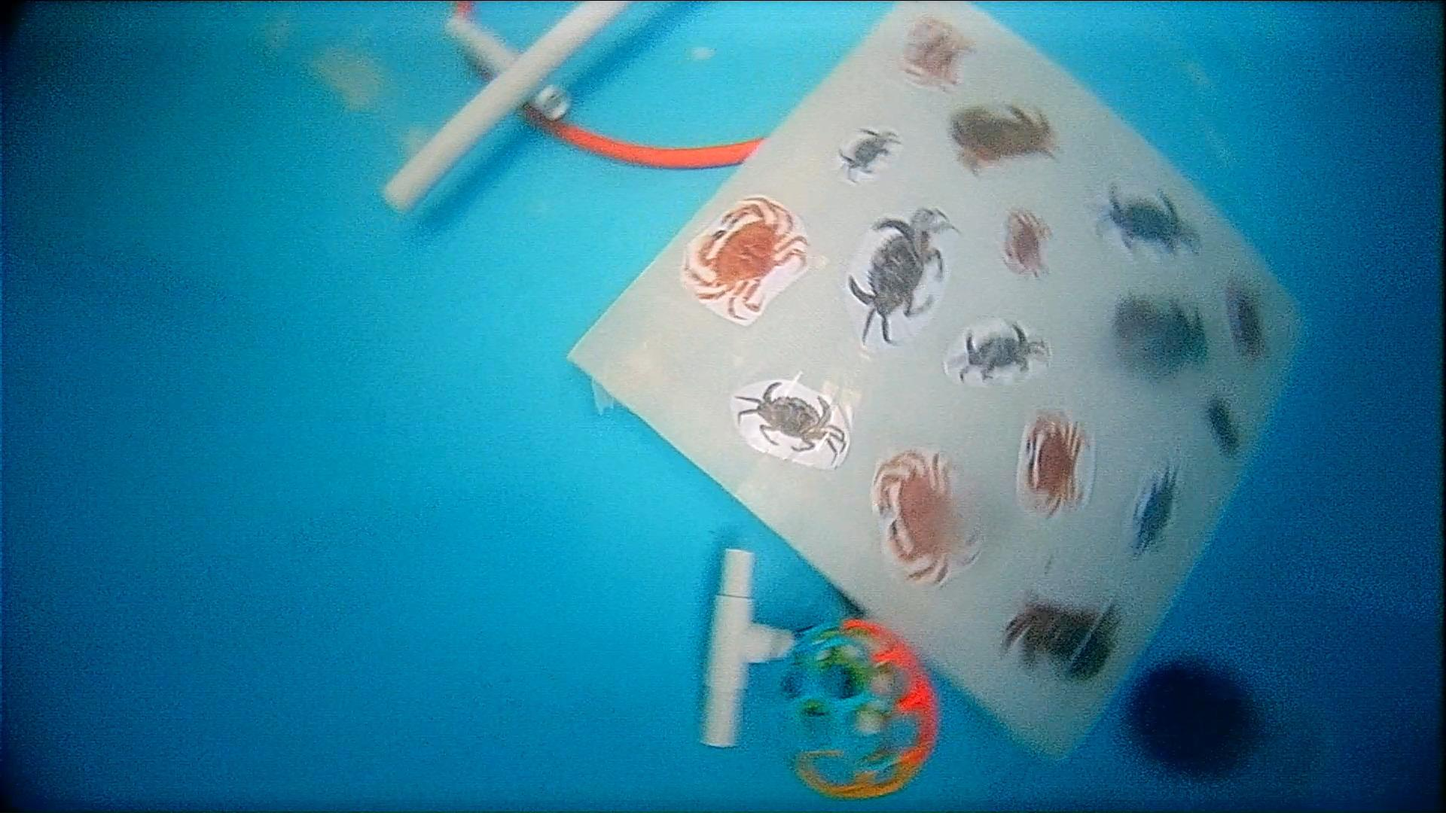GreenCrab: (848, 209, 953, 344), (736, 382, 845, 461), (1106, 186, 1197, 252), (960, 322, 1046, 379), (838, 128, 901, 184), (1134, 467, 1175, 552)
